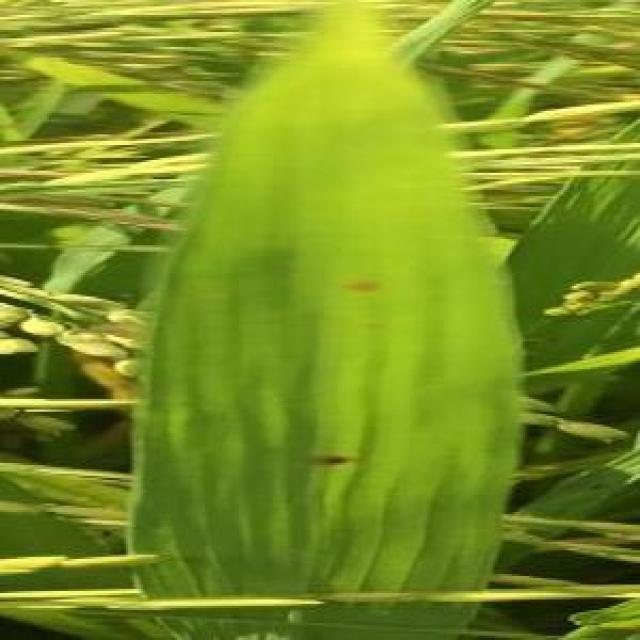Brown_Spot: (340, 267, 390, 312), (306, 439, 356, 477)
